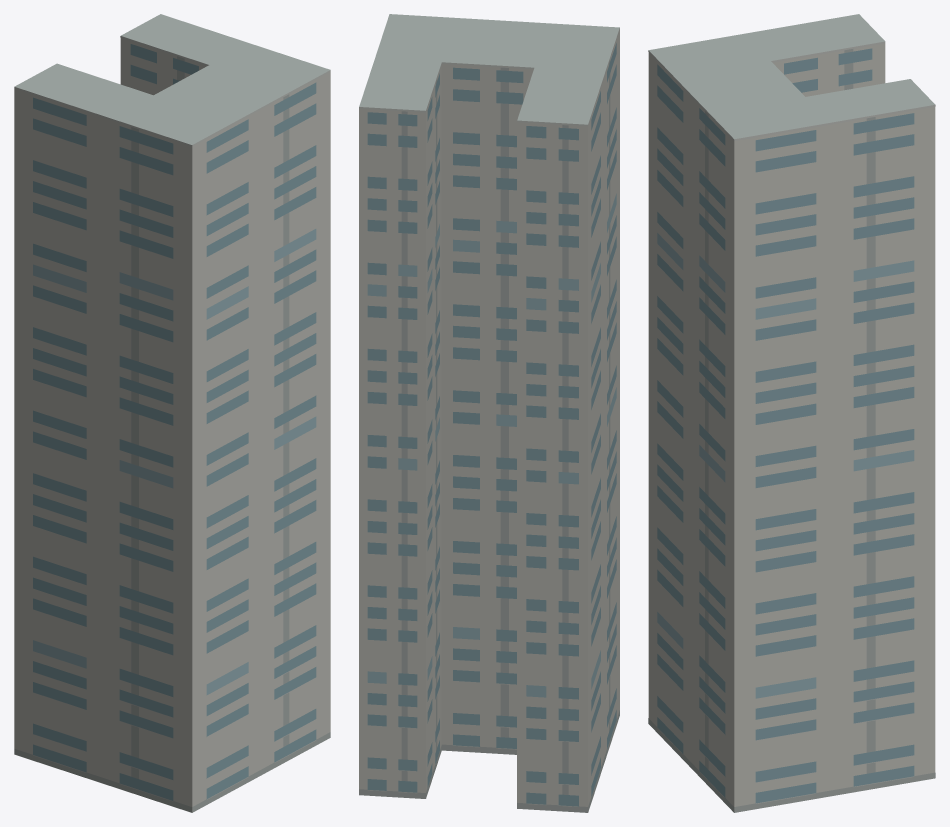
File: residential-55839ea5-8f6d-42b4-b35b-3b712d4d302f.glb
3 renders of one model, left to right at view 1: azimuth 30°, elevation 25°; view 2: azimuth 150°, elevation 25°; view 3: azimuth 270°, elevation 25°, orthographic. The views are drawn at different scales.
Visible parts, largest first — view 1: residential-55839ea5-8f6d-42b4-b35b-3b712d4d302f.tmp; view 2: residential-55839ea5-8f6d-42b4-b35b-3b712d4d302f.tmp; view 3: residential-55839ea5-8f6d-42b4-b35b-3b712d4d302f.tmp.
Boxes of the visible parts, x1,y1,x2,y2 form: residential-55839ea5-8f6d-42b4-b35b-3b712d4d302f.tmp: (14,14,330,812); residential-55839ea5-8f6d-42b4-b35b-3b712d4d302f.tmp: (359,14,619,812); residential-55839ea5-8f6d-42b4-b35b-3b712d4d302f.tmp: (648,14,935,812).
Bounding box in the file's own units: 36.31 × 91 × 35.14.
